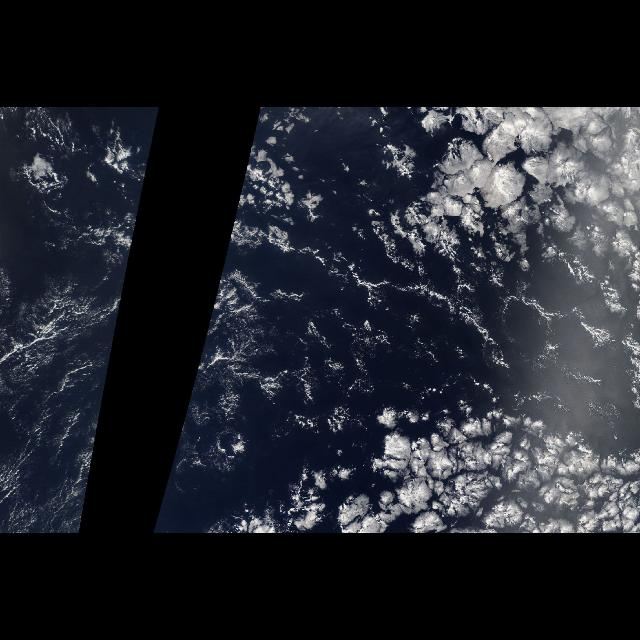Flower: (276, 393, 640, 532), (409, 108, 639, 276)
Sugar: (0, 264, 130, 534), (150, 466, 172, 534)
